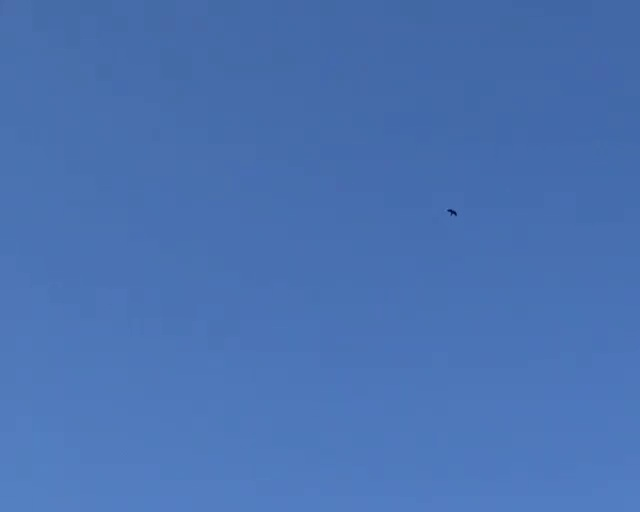BIRD: (446, 208, 458, 216)
